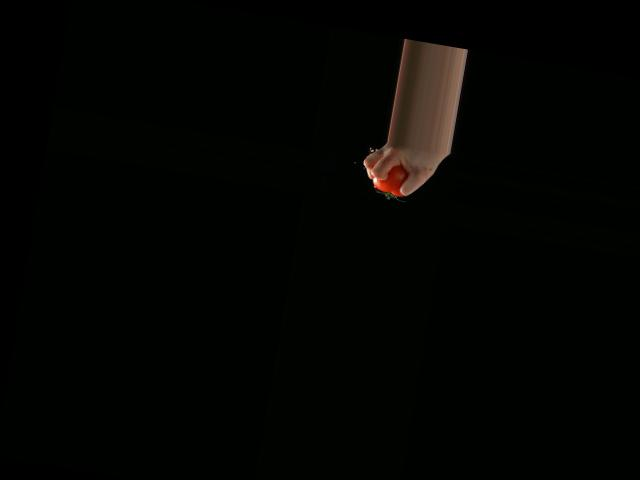tomato: (371, 161, 410, 197)
